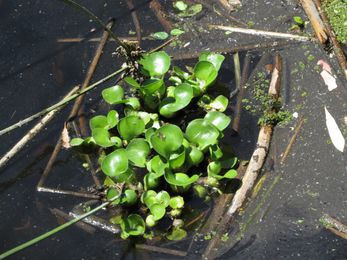water_hyacinth: (78, 50, 237, 248)
